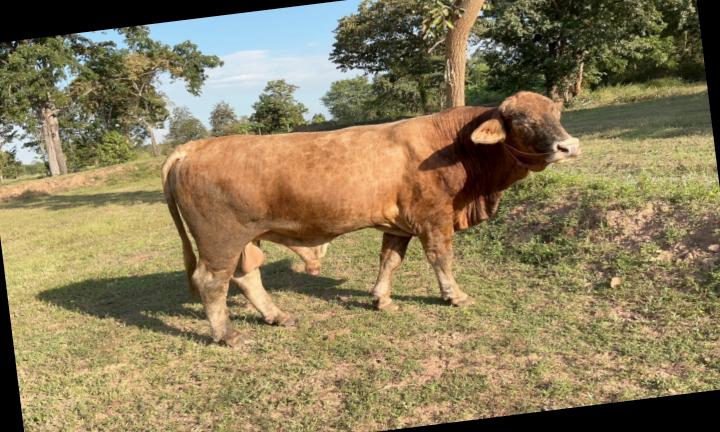Charolais: (161, 92, 579, 346)
